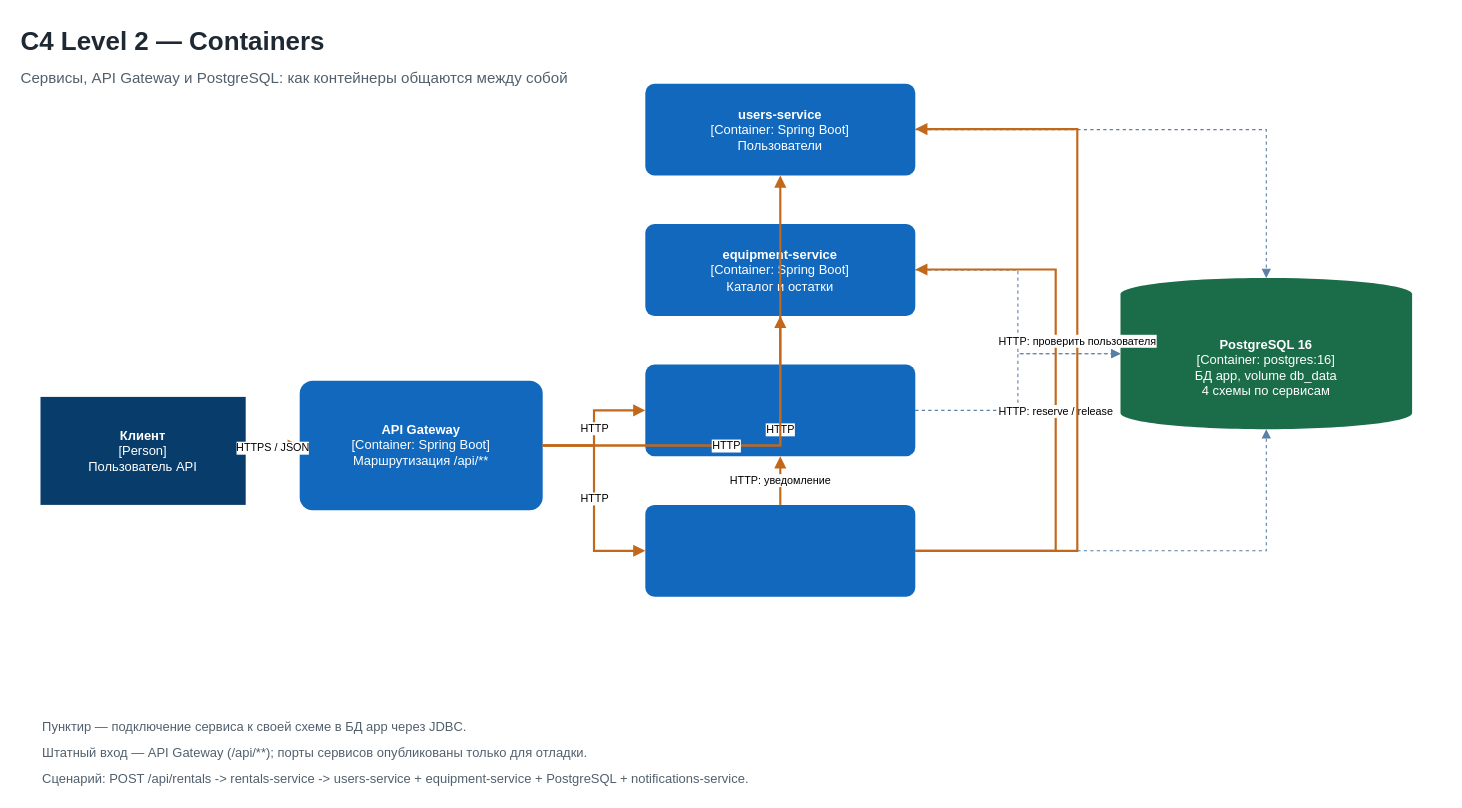
The diagram is 1462 pixels wide and 808 high, and some of its shapes have lost their labels. The centre of each missing label's shape, as x and y in pixels:
notifications-service [Container: Spring Boot] Уведомления (лог): point 780,410
rentals-service [Container: Spring Boot] Аренда (оркестратор): point 780,550
